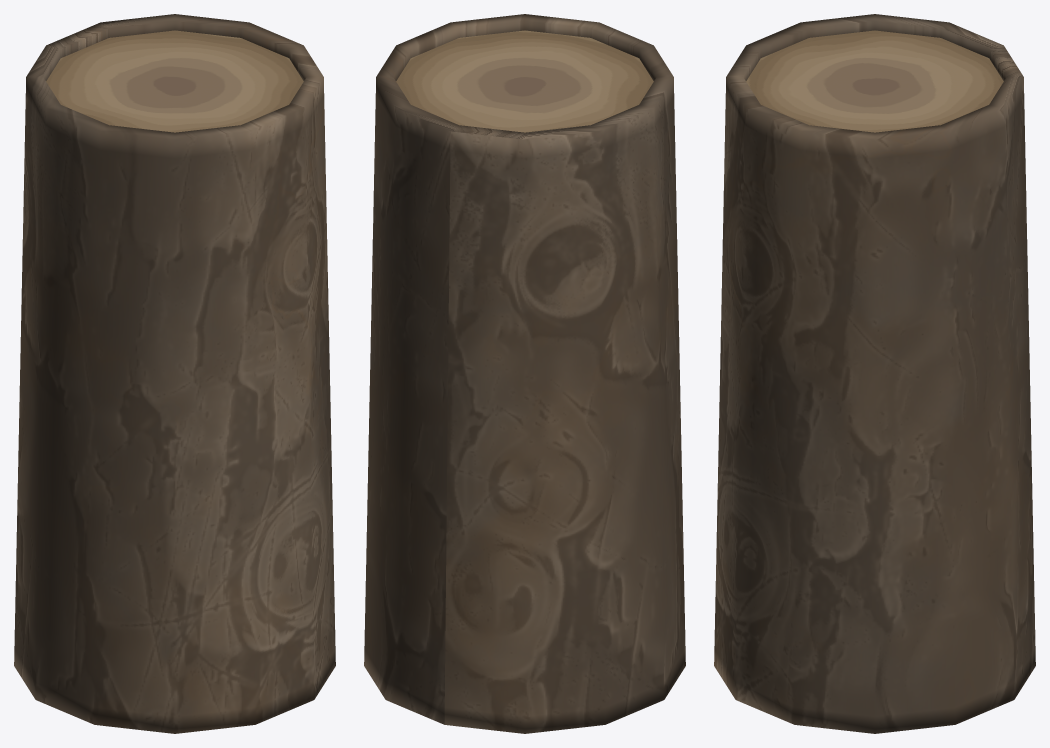
Rendered from tree05_log_small.fbx.
3 renders of one model, left to right at view 1: azimuth 30°, elevation 25°; view 2: azimuth 150°, elevation 25°; view 3: azimuth 270°, elevation 25°, orthographic.
Visible parts, largest first — view 1: Cylinder.023; view 2: Cylinder.023; view 3: Cylinder.023.
Part boxes in pixels (x1,y1,x2,y2): Cylinder.023: [14, 14, 335, 733]; Cylinder.023: [364, 14, 685, 733]; Cylinder.023: [714, 14, 1035, 733].
Bounding box in the file's own units: 36.74 × 74.21 × 36.74.
